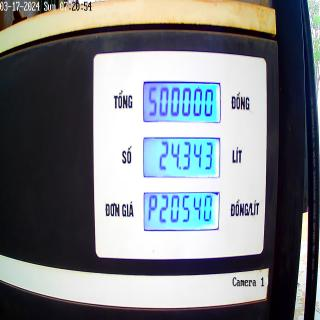screen: (142, 78, 223, 234)
